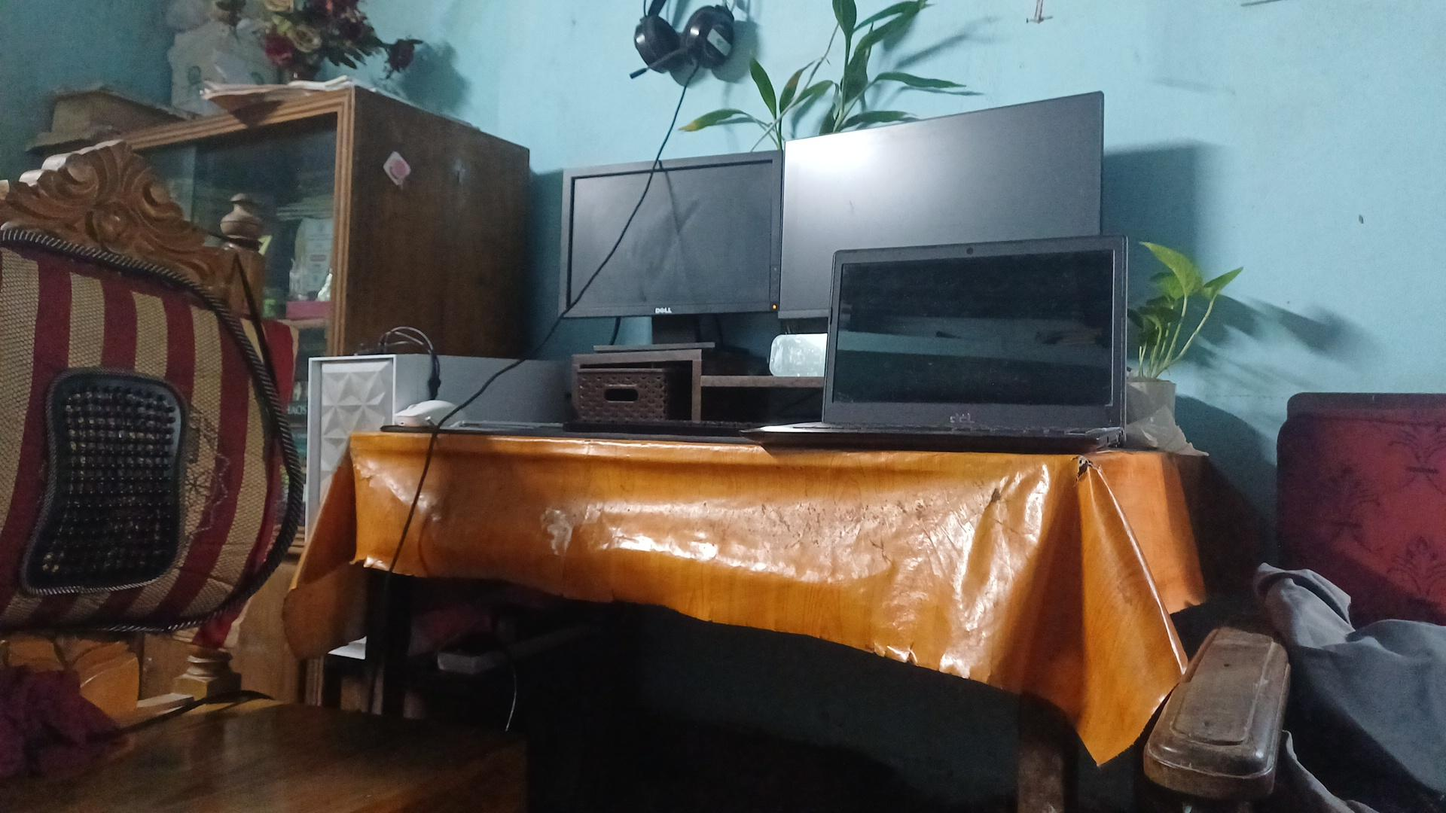Chair: (21, 139, 340, 810)
Clock: (758, 305, 886, 385)
Laptop: (820, 221, 1185, 467)
Monitor: (779, 112, 1192, 344), (550, 157, 813, 328)
Mouse: (390, 388, 466, 441)
Plant: (1121, 230, 1239, 487)
